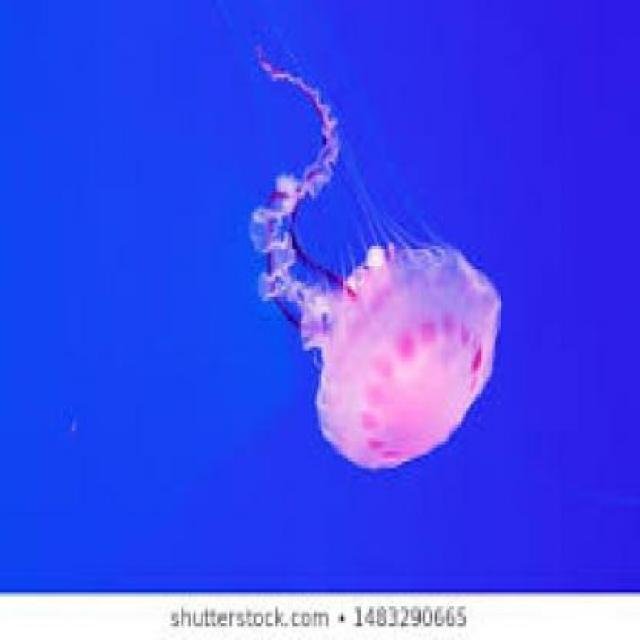Jellyfish: (242, 30, 504, 482)
